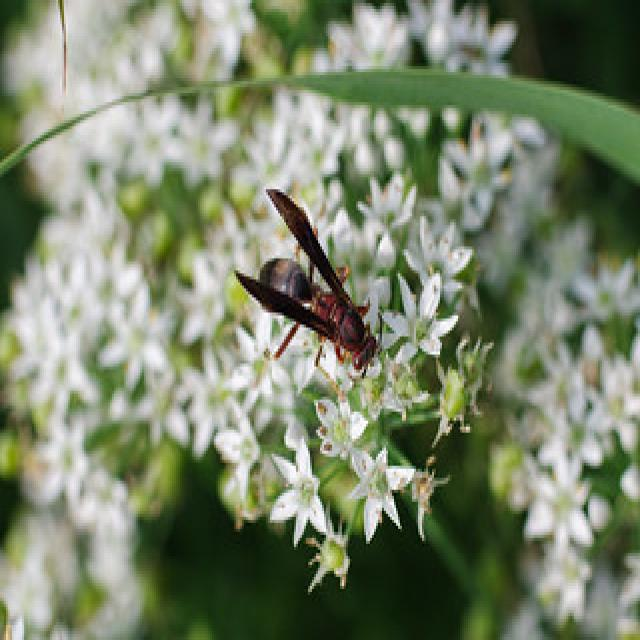Guepe: (233, 177, 390, 378)
